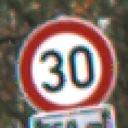speed_limit_30: (14, 13, 119, 115)
